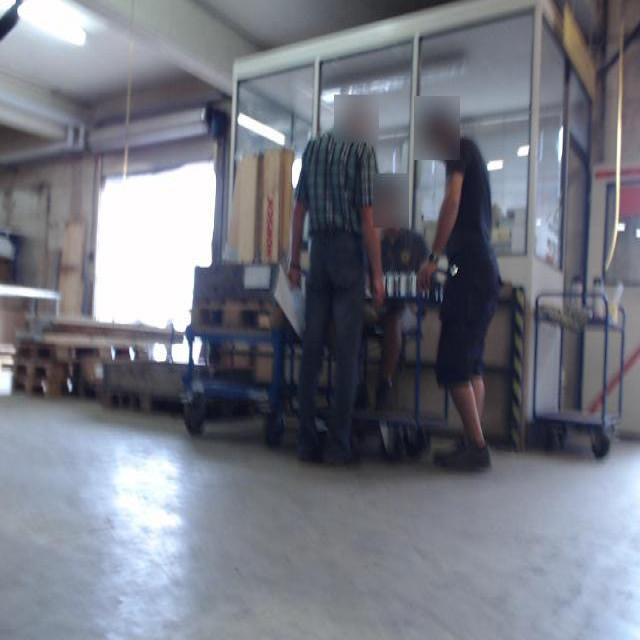pallet: (190, 301, 278, 335), (16, 343, 142, 360), (99, 392, 158, 413), (14, 374, 67, 394), (16, 359, 67, 374)
